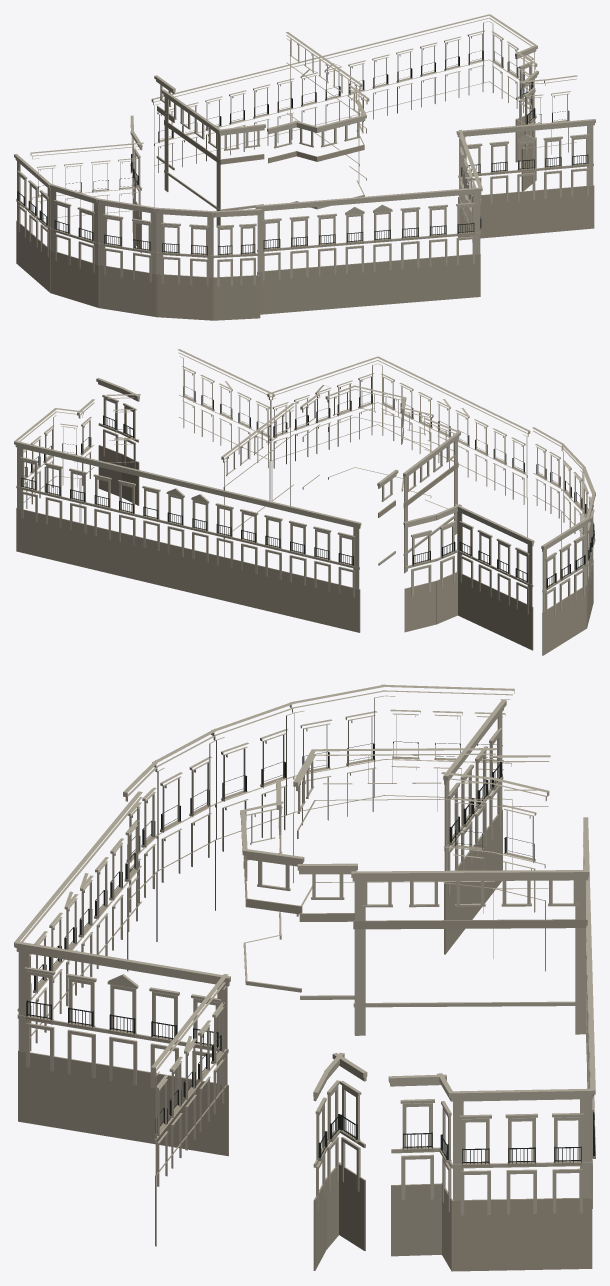
3 renders of one model, top to bottom at view 1: azimuth 30°, elevation 25°; view 2: azimuth 150°, elevation 25°; view 3: azimuth 270°, elevation 25°, orthographic. The views are drawn at different scales.
Parts seen in each view (by area): view 1: detail; view 2: detail; view 3: detail.
Boxes of the visible parts, bbox=[...] form: detail: bbox=[14, 14, 595, 320]; detail: bbox=[14, 349, 595, 655]; detail: bbox=[14, 684, 595, 1271].
Bounding box in the file's own units: 54.36 × 14.53 × 32.69.
